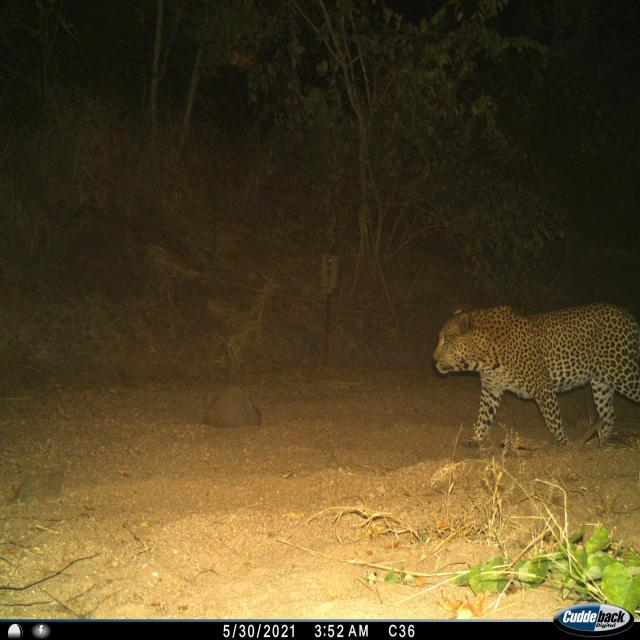Leopard: (438, 297, 640, 461)
